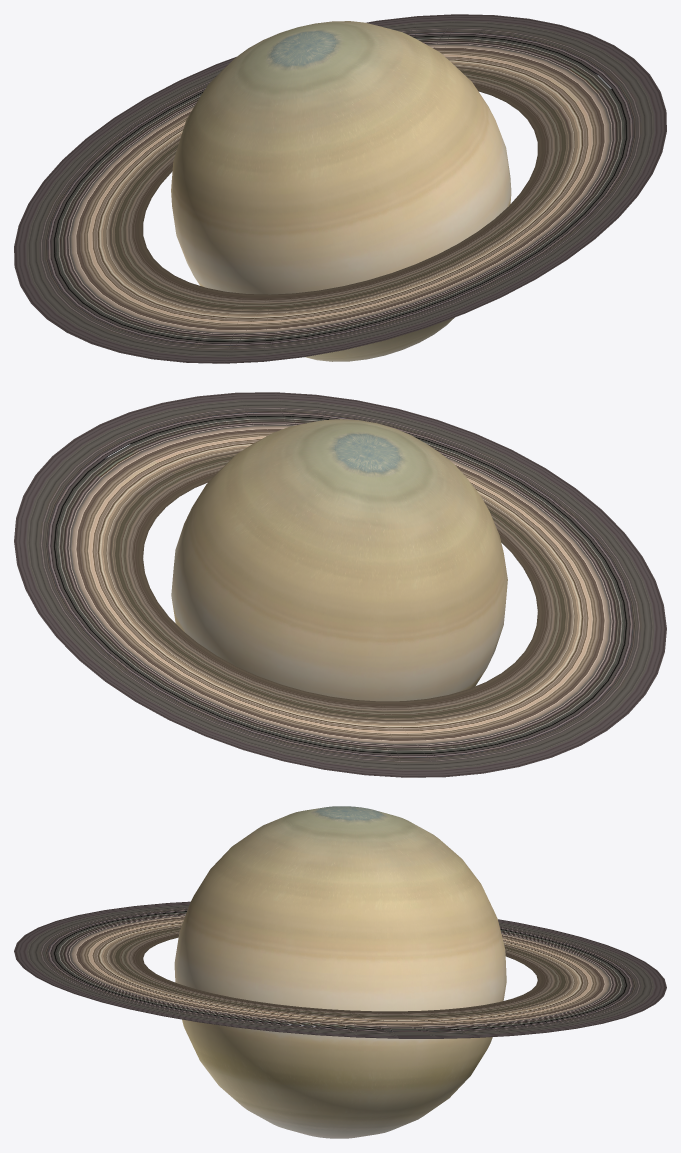
Rendered from saturn.fbx.
3 renders of one model, top to bottom at view 1: azimuth 30°, elevation 25°; view 2: azimuth 150°, elevation 25°; view 3: azimuth 270°, elevation 25°, orthographic. The views are drawn at different scales.
Parts seen in each view (by area): view 1: saturn; view 2: saturn; view 3: saturn.
Boxes of the visible parts, box(x1,y1,x2,y2) form: saturn: box(14, 14, 666, 363); saturn: box(14, 392, 666, 777); saturn: box(14, 806, 666, 1138).
Size of the model in its own units: 45.91 by 23.98 by 47.1.
2 materials, 2 textured.
